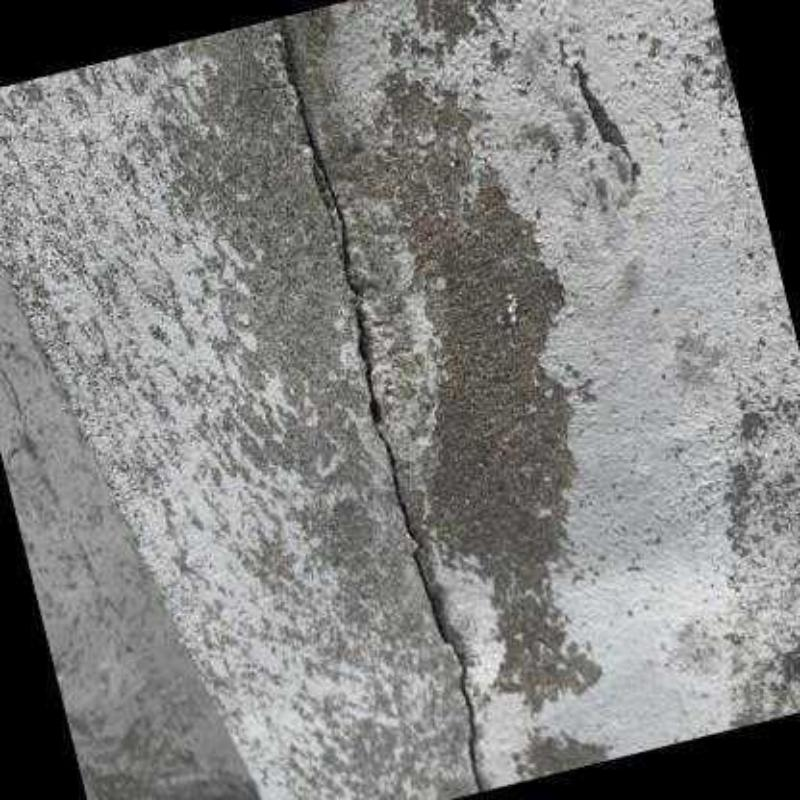crack: (284, 45, 483, 793)
